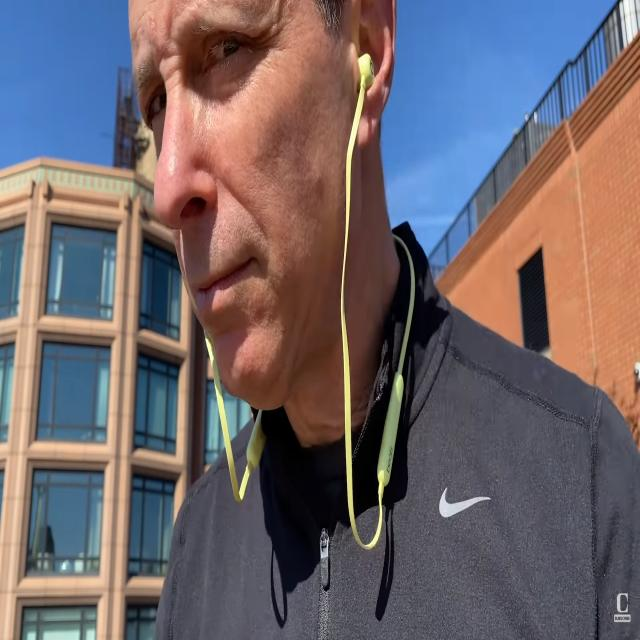Neckband: (202, 51, 416, 552)
